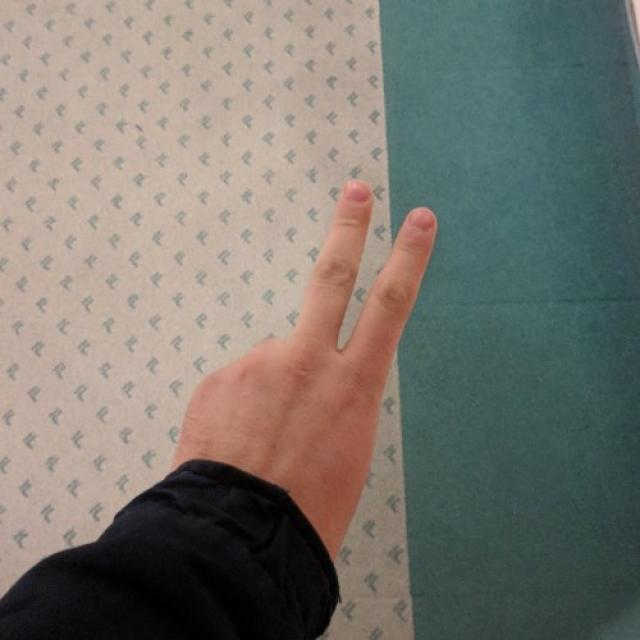scissors: (185, 177, 443, 470)
